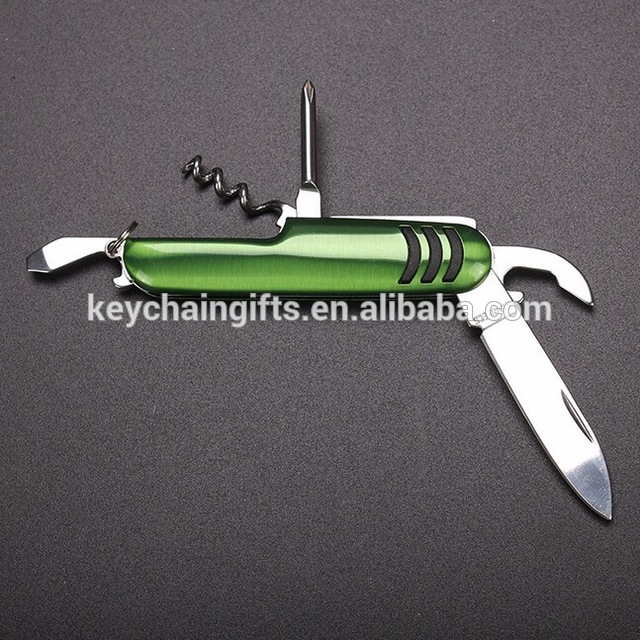knief: (34, 84, 625, 523)
